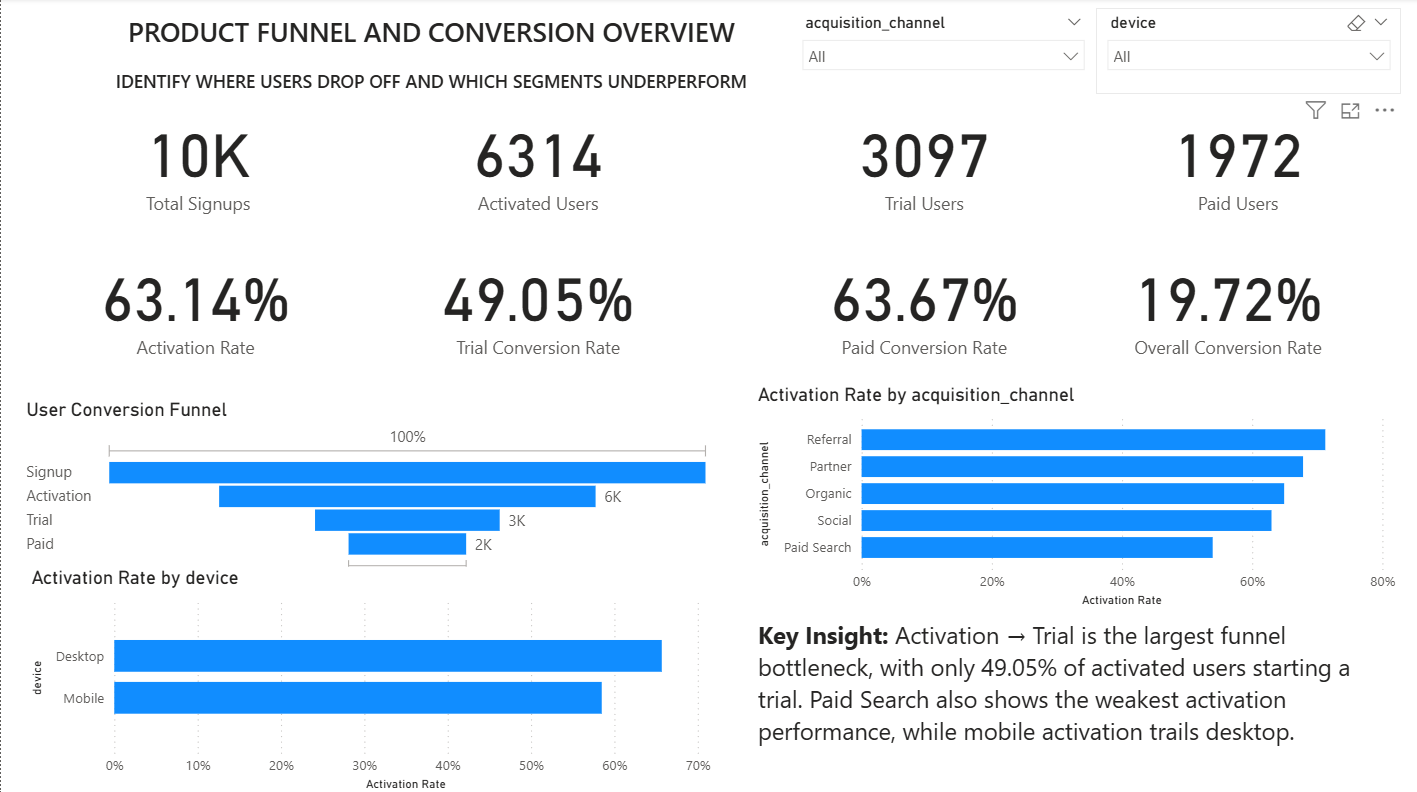

What the dashboard file says about the page in this screenshot:
{"tool":"powerbi","page":{"name":"Funnel Overview","canvas":[1280,720],"ordinal":0},"visuals":[{"type":"textbox","box":[11.3,8.8,753.6,89],"z":0},{"type":"card","fields":{"Values":["user_analysis_master.Total Signups"]},"box":[22.5,87.1,310.7,120.1],"z":1000},{"type":"funnel","title":"User Conversion Funnel","fields":{"Category":["funnel_summary.stage"],"Y":["Sum(funnel_summary.users)"]},"box":[18,360.2,627.4,180.1],"z":9000},{"type":"clusteredBarChart","fields":{"Category":["user_analysis_master.acquisition_channel"],"Y":["user_analysis_master.Activation Rate"]},"box":[676.9,346.7,585.4,207.1],"z":9001},{"type":"clusteredBarChart","fields":{"Category":["user_analysis_master.device"],"Y":["user_analysis_master.Activation Rate"]},"box":[22.5,513.3,622.9,207.1],"z":9002},{"type":"card","fields":{"Values":["user_analysis_master.Paid Users"]},"box":[969.6,87.1,292.7,120.1],"z":9003},{"type":"card","fields":{"Values":["user_analysis_master.Trial Users"]},"box":[676.9,87.1,310.7,120.1],"z":9004},{"type":"card","fields":{"Values":["user_analysis_master.Activated Users"]},"box":[328.7,87.1,310.7,120.1],"z":9005},{"type":"card","fields":{"Values":["user_analysis_master.Activation Rate"]},"box":[22.5,216.1,306.2,120.1],"z":9006},{"type":"card","fields":{"Values":["user_analysis_master.Trial Conversion Rate"]},"box":[328.7,216.1,310.7,120.1],"z":9007},{"type":"card","fields":{"Values":["user_analysis_master.Paid Conversion Rate"]},"box":[676.9,216.1,310.7,120.1],"z":9008},{"type":"card","fields":{"Values":["user_analysis_master.Overall Conversion Rate"]},"box":[951.6,216.1,310.7,120.1],"z":9009},{"type":"slicer","fields":{"Values":["user_analysis_master.acquisition_channel"]},"box":[712.2,8.8,274.6,86.5],"z":9010},{"type":"slicer","fields":{"Values":["user_analysis_master.device"]},"box":[986.8,8.8,275.9,77.7],"z":9011},{"type":"textbox","box":[677,554,585,166],"z":9012}]}

Visuals, with their boxes in screenshot pixels (x1, y1, x2, y2), scaled from the page's 1280x720 canvas onto the 1417x792 screenshot:
textbox: bbox(13, 10, 847, 108)
card - user_analysis_master.Total Signups: bbox(25, 96, 369, 228)
"User Conversion Funnel" funnel: bbox(20, 396, 714, 594)
clusteredBarChart - user_analysis_master.acquisition_channel x user_analysis_master.Activation Rate: bbox(749, 381, 1397, 609)
clusteredBarChart - user_analysis_master.device x user_analysis_master.Activation Rate: bbox(25, 565, 714, 791)
card - user_analysis_master.Paid Users: bbox(1073, 96, 1397, 228)
card - user_analysis_master.Trial Users: bbox(749, 96, 1093, 228)
card - user_analysis_master.Activated Users: bbox(364, 96, 708, 228)
card - user_analysis_master.Activation Rate: bbox(25, 238, 364, 370)
card - user_analysis_master.Trial Conversion Rate: bbox(364, 238, 708, 370)
card - user_analysis_master.Paid Conversion Rate: bbox(749, 238, 1093, 370)
card - user_analysis_master.Overall Conversion Rate: bbox(1053, 238, 1397, 370)
slicer - user_analysis_master.acquisition_channel: bbox(788, 10, 1092, 105)
slicer - user_analysis_master.device: bbox(1092, 10, 1398, 95)
textbox: bbox(749, 609, 1397, 791)
